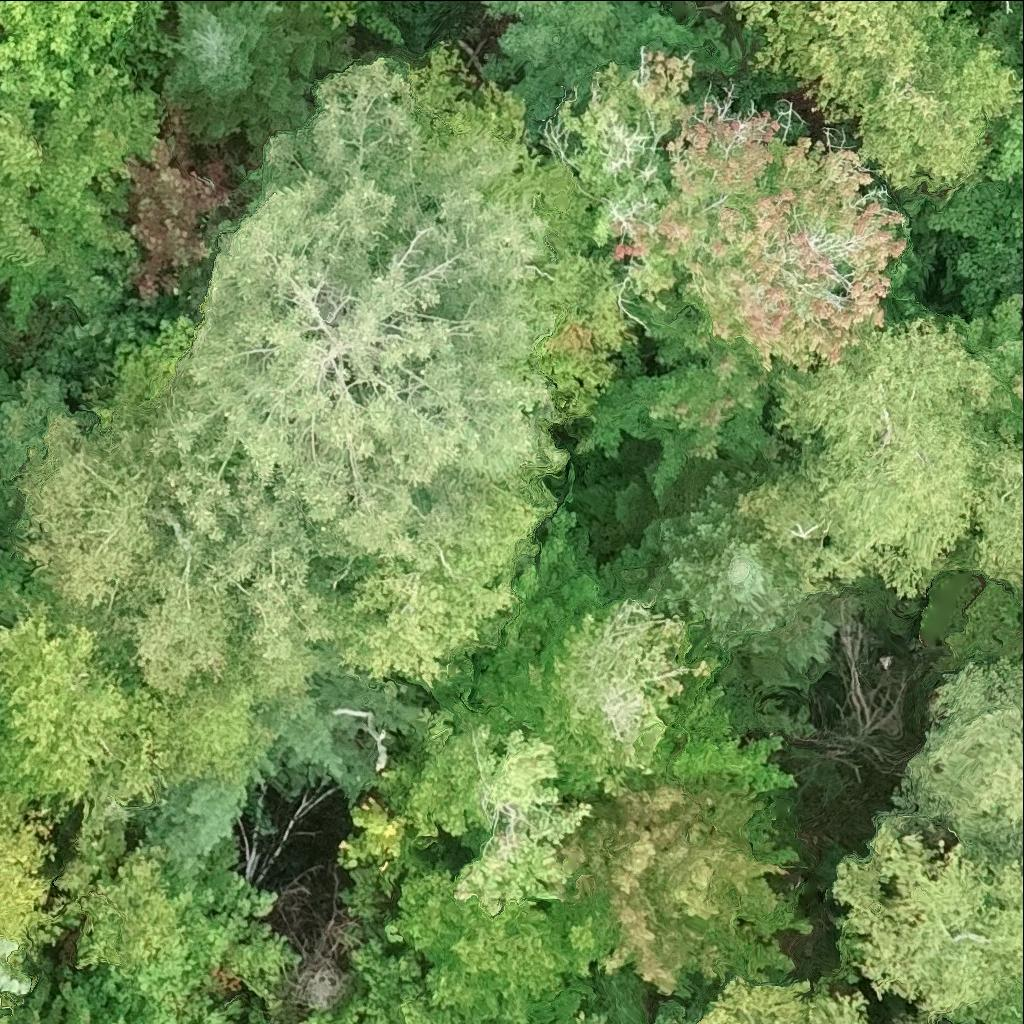crown: (134, 52, 549, 697), (545, 43, 912, 376), (562, 679, 808, 993), (737, 314, 998, 599), (0, 603, 250, 815), (736, 0, 1023, 183), (474, 597, 707, 803), (345, 713, 586, 911), (604, 473, 832, 680), (0, 49, 162, 322), (833, 812, 1023, 1020), (342, 495, 550, 683), (580, 298, 766, 501), (389, 869, 616, 1023), (107, 112, 256, 308), (482, 0, 697, 129), (21, 413, 157, 603), (911, 660, 1023, 867), (167, 0, 306, 140), (125, 549, 248, 697), (541, 250, 635, 417), (78, 835, 174, 973), (0, 0, 139, 95), (162, 862, 278, 973), (957, 295, 1023, 446), (352, 938, 468, 1023), (145, 779, 245, 870), (963, 433, 1023, 584), (0, 803, 59, 953), (698, 977, 867, 1023), (297, 0, 403, 44), (990, 108, 1023, 197), (294, 1001, 375, 1023), (0, 932, 29, 991), (265, 0, 282, 20), (168, 0, 187, 11), (518, 1015, 529, 1023), (1001, 0, 1019, 2)
